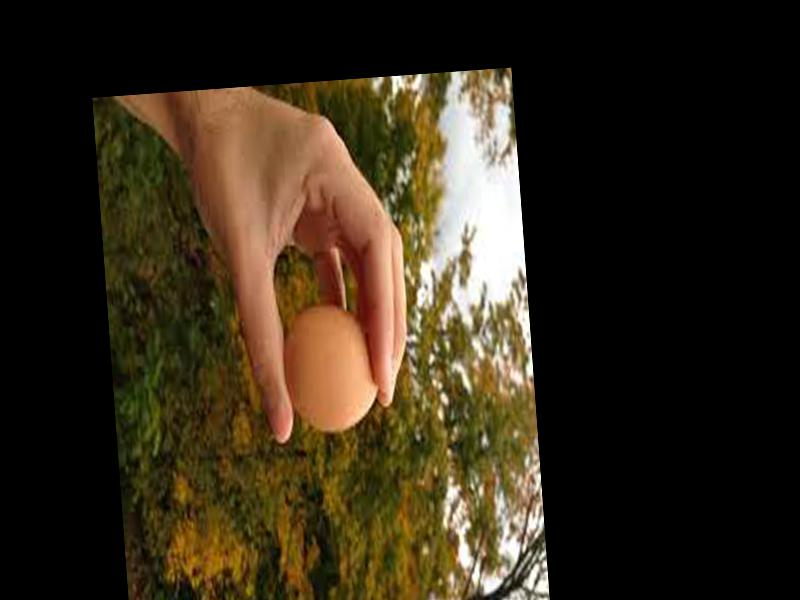Eggs: (279, 303, 382, 434)
